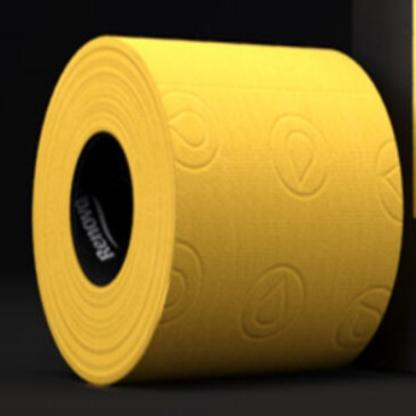tissue: (24, 20, 396, 398)
